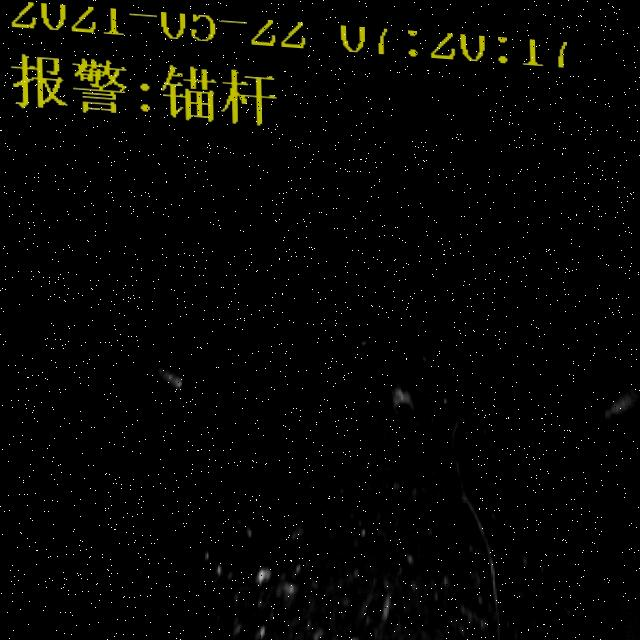bolt: (441, 403, 509, 640)
large_sized_coal: (310, 302, 373, 388), (384, 378, 417, 411)
